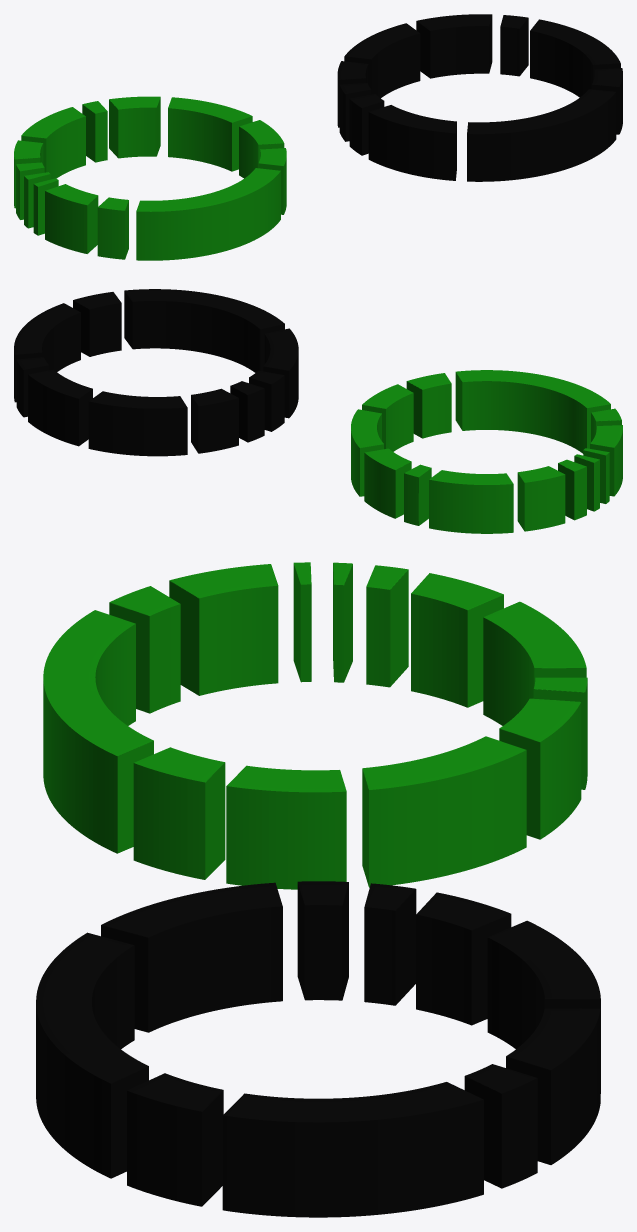
The model's file is extraDNA.fbx.
The picture shows the model from 3 angles, top to bottom: view 1: azimuth 30°, elevation 25°; view 2: azimuth 150°, elevation 25°; view 3: azimuth 270°, elevation 25°; orthographic projection. The views are drawn at different scales.
Visible parts, largest first — view 1: Circle.001, Circle; view 2: Circle.001, Circle; view 3: Circle.001, Circle.
Part boxes in pixels (x1,y1,x2,y2): Circle.001: (337,14,622,181); Circle: (14,96,286,260); Circle.001: (14,289,298,456); Circle: (351,370,622,533); Circle.001: (36,881,600,1217); Circle: (43,562,587,889).
Bounding box in the file's own units: 407 × 33.31 × 174.
